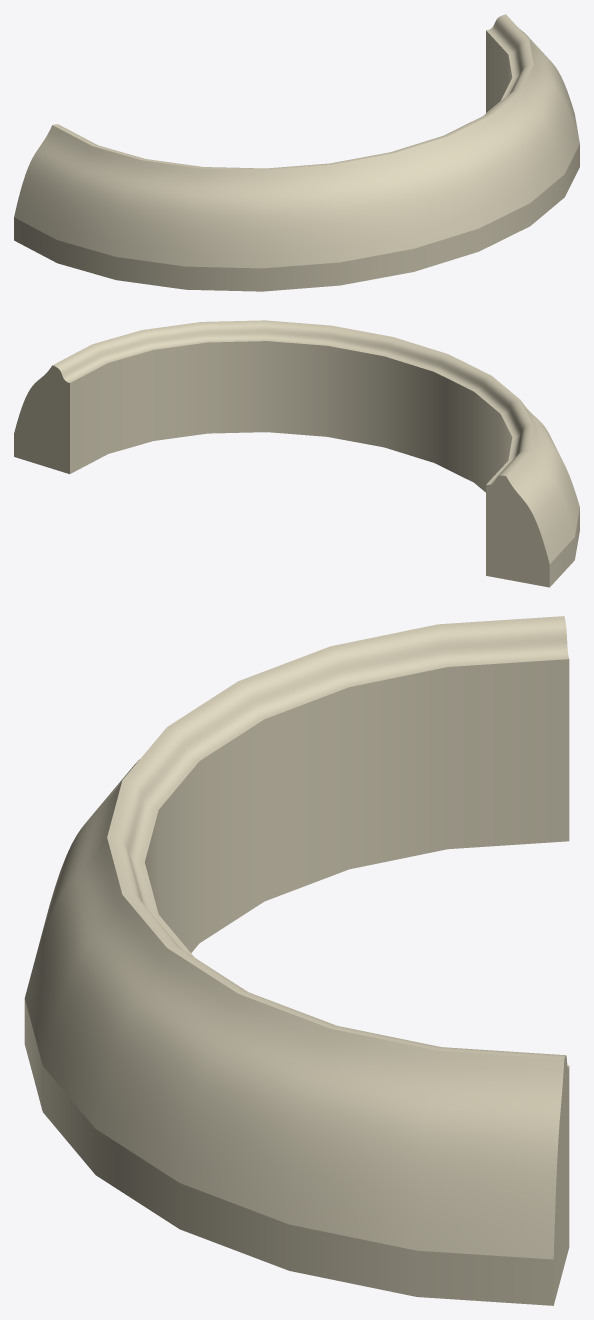
Rendered from original-36.obj.
3 renders of one model, top to bottom at view 1: azimuth 30°, elevation 25°; view 2: azimuth 150°, elevation 25°; view 3: azimuth 270°, elevation 25°, orthographic. The views are drawn at different scales.
Visible parts, largest first — view 1: Group35/mesh20/mesh20-geometry#mesh20-geometry; view 2: Group35/mesh20/mesh20-geometry#mesh20-geometry; view 3: Group35/mesh20/mesh20-geometry#mesh20-geometry.
Boxes of the visible parts, box(x1,y1,x2,y2) form: Group35/mesh20/mesh20-geometry#mesh20-geometry: box(14, 14, 579, 291); Group35/mesh20/mesh20-geometry#mesh20-geometry: box(14, 320, 579, 587); Group35/mesh20/mesh20-geometry#mesh20-geometry: box(24, 616, 569, 1305).
Bounding box in the file's own units: 0.1919 × 0.0354 × 0.0845.
